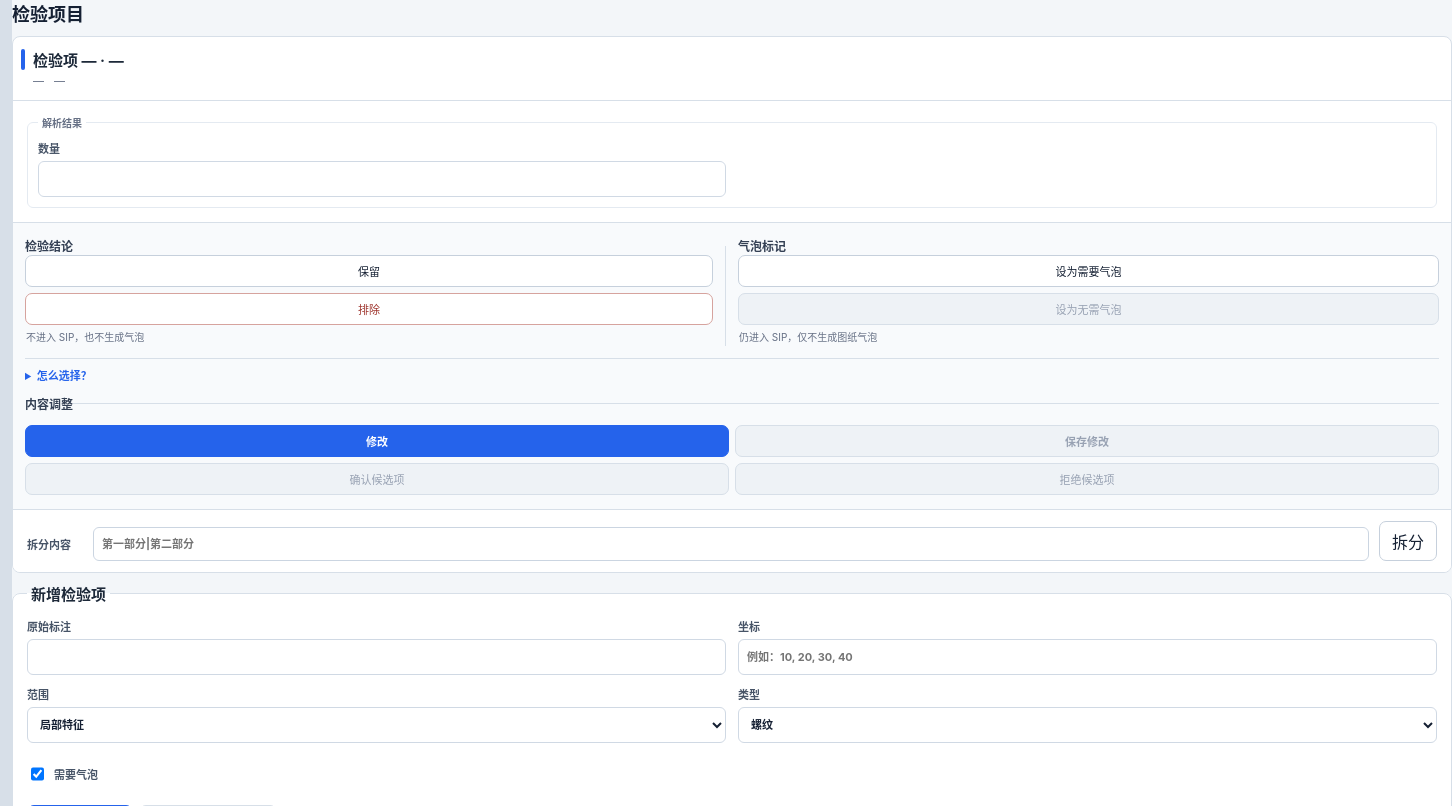
Scenario: ReviewPanel › 折叠说明解释无需气泡与排除的适用场景且不触发审核命令
The image size is (1452, 806).
Click the heading "怎么选择？".
click(64, 376)  # box [37,369,92,383]
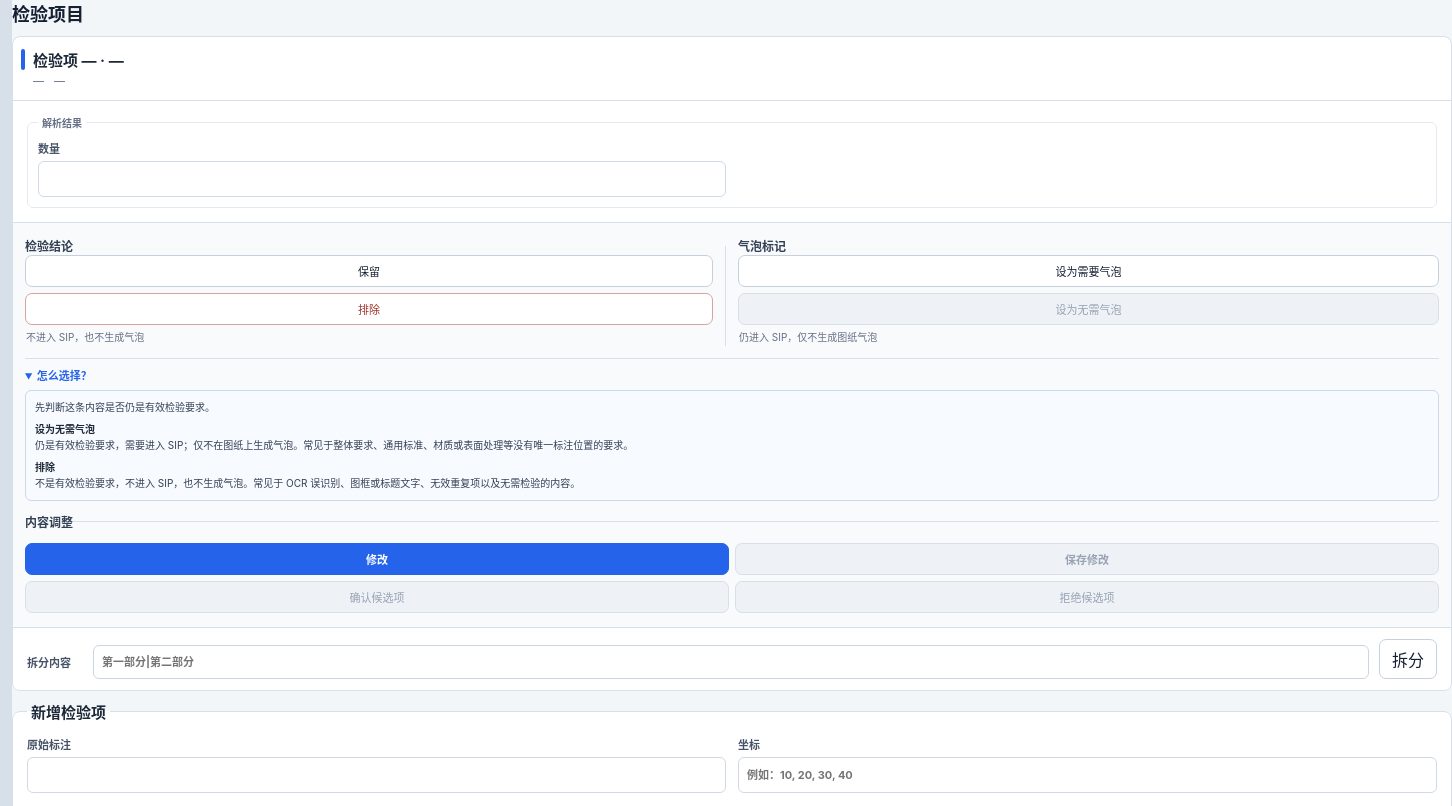
Expected: the text "先判断这条内容是否仍是有效检验要求。" is shown, [35,401,215,413]
Expected: the text "整体要求、通用标准、材质或表面处理" is shown, [35,439,633,451]
Expected: the text "不是有效检验要求，不进入 SIP，也不生成气泡。常见于 OCR 误识别、图框或标题文字、无效重复项以及无需检验的内容。" is shown, [35,477,580,489]
